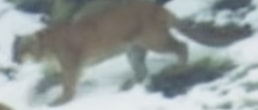Mountain Lion: (5, 6, 226, 108)
